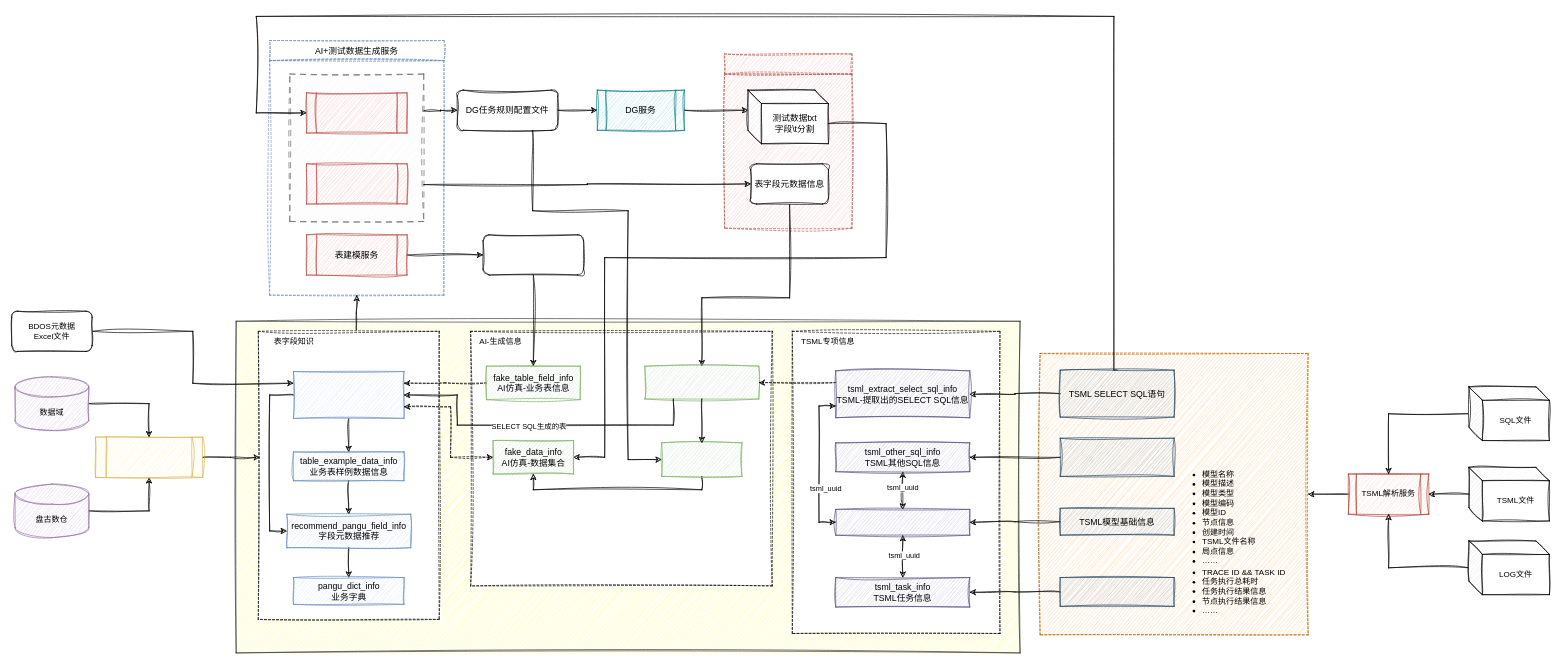
This 1561x665 diagram has some shape labels left out. The centre of each missing label's shape, as x and y in pixels:
"dg_rule_info AI 仿真-DG规则集合" belongs at [701,459].
"gen_table_field_info 数据生成对应业务表信息" belongs at [701,382].
"SQL生成数据服务" belongs at [356,112].
"table_meta_data_info 业务表元数据信息" belongs at [348,394].
"TSML 其他 SQL语句" belongs at [1117,457].
"tsml_model_base_info TSML模型基础信息" belongs at [902,522].
"TSML任务信息" belongs at [1117,591].
"WA业务表信息 采集提取服务" belongs at [149,457].
"仿真表元数据JSON配置" belongs at [533,254].
"元数据生成数据服务" belongs at [356,183].
"行列格式的测试数据" belongs at [788,63].
